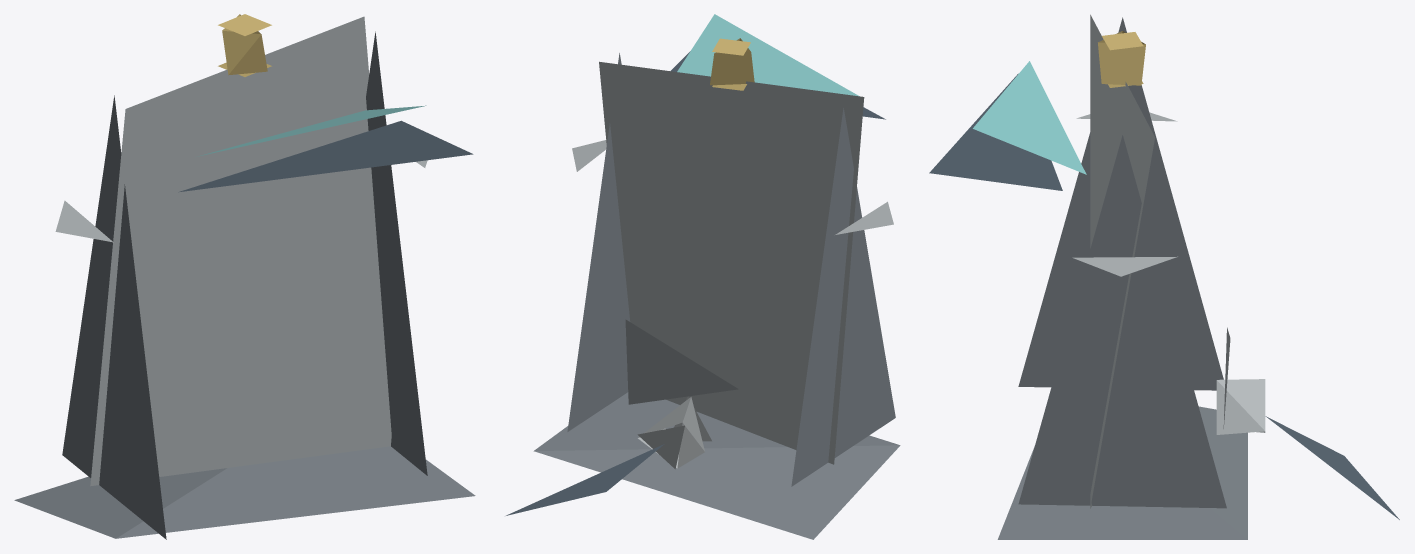
3 views of the same model, side by side, from view 1: azimuth 30°, elevation 25°; view 2: azimuth 150°, elevation 25°; view 3: azimuth 270°, elevation 25° (orthographic). The views are drawn at different scales.
Parts seen in each view (by area): view 1: sea_data_terminal.001; view 2: sea_data_terminal.001; view 3: sea_data_terminal.001.
Boxes of the visible parts, box(x1,y1,x2,y2) form: sea_data_terminal.001: box(14, 14, 475, 539); sea_data_terminal.001: box(506, 14, 900, 539); sea_data_terminal.001: box(929, 14, 1399, 539).
Size of the model in its own units: 1.15 by 1.42 by 1.36.
